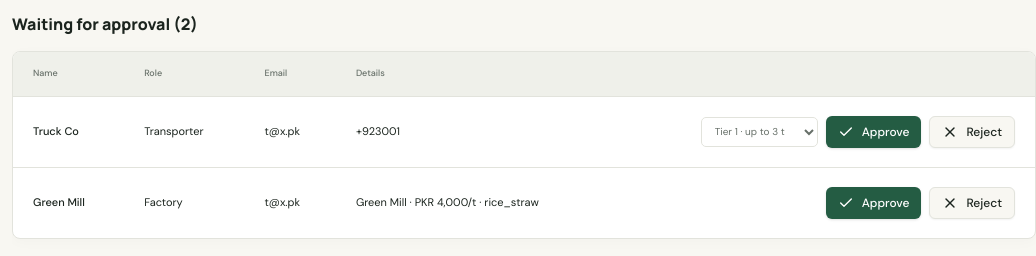
Test: lists pending accounts and approves a transporter at the chosen tier
The image size is (1036, 256).
Expected: the text "Truck Co" is shown, [13,96,124,167]
Expected: the text "Green Mill · PKR 4,000/t · rice_straw" is shown, [336,167,606,238]
Select "Tier 2 · up to 7 t" in the dropdown named "Tier for Truck Co" at x=759, y=132, box [701,116,818,146]
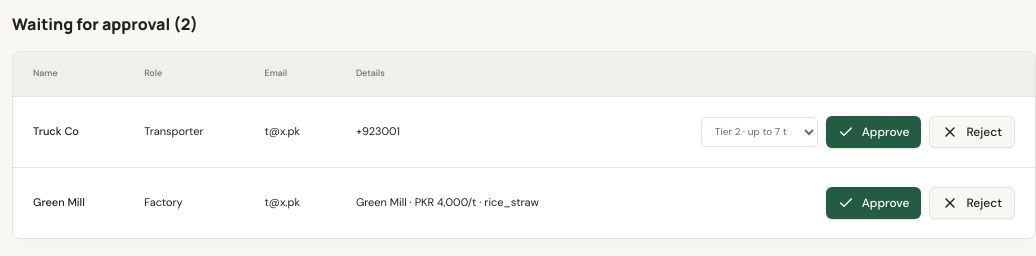
Click the button "Approve" in the row of "Truck Co" at x=874, y=132, box [826,116,921,148]
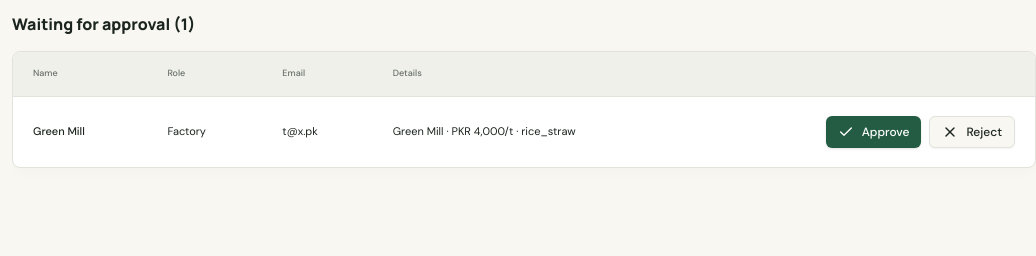
Expected: the text "Truck Co" is gone
